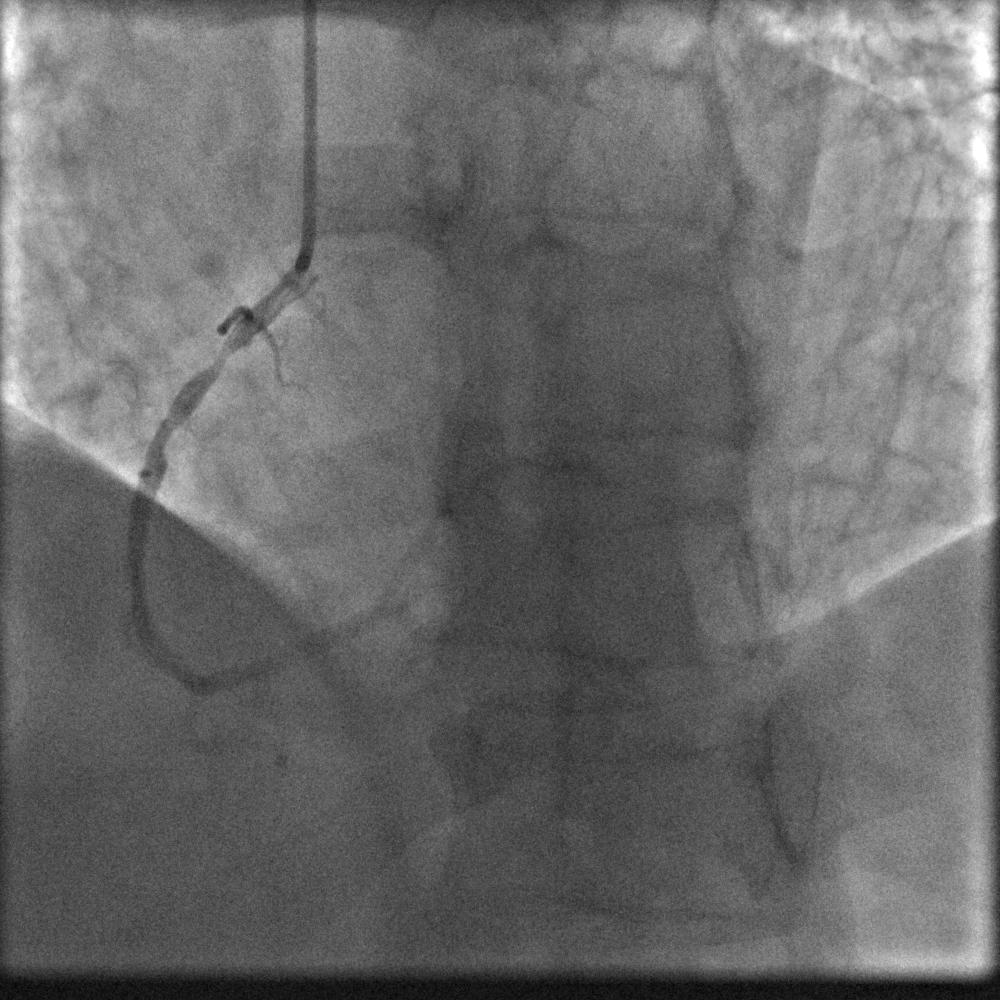Stenosis: (195, 328, 236, 385)
